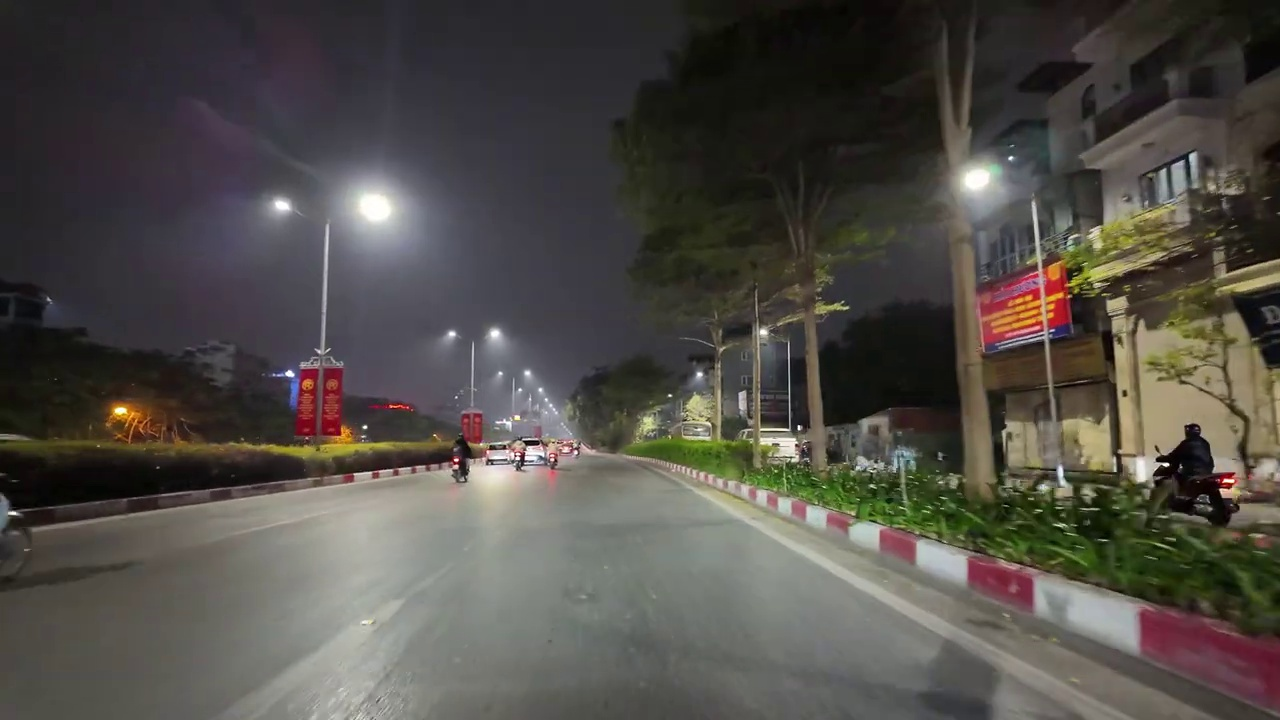acesa: (353, 189, 395, 225), (958, 163, 996, 198), (266, 194, 296, 220), (483, 324, 507, 350), (436, 326, 459, 350)
